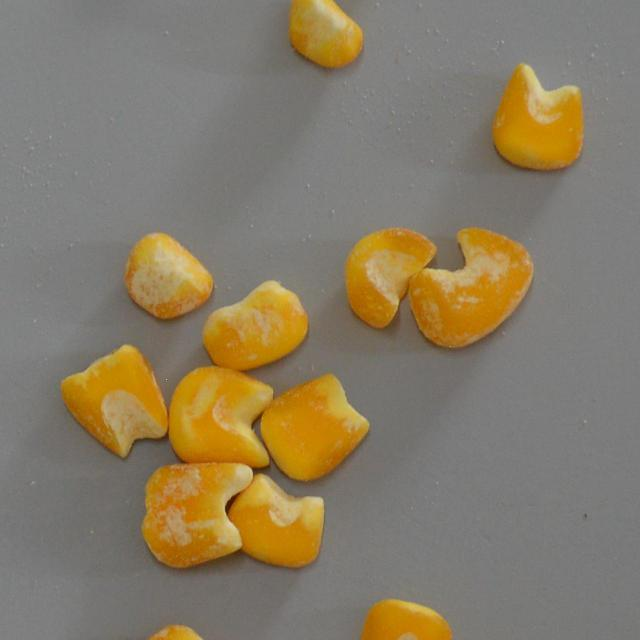no_canjicado: (259, 372, 370, 480), (167, 365, 273, 468), (224, 470, 328, 570), (490, 62, 584, 172)
no_desgerminado: (71, 349, 164, 456), (344, 228, 436, 331), (355, 600, 451, 640)
pelicula: (404, 226, 532, 348), (140, 453, 252, 569), (201, 279, 308, 372), (123, 230, 213, 320), (288, 0, 364, 67), (122, 624, 218, 640)
